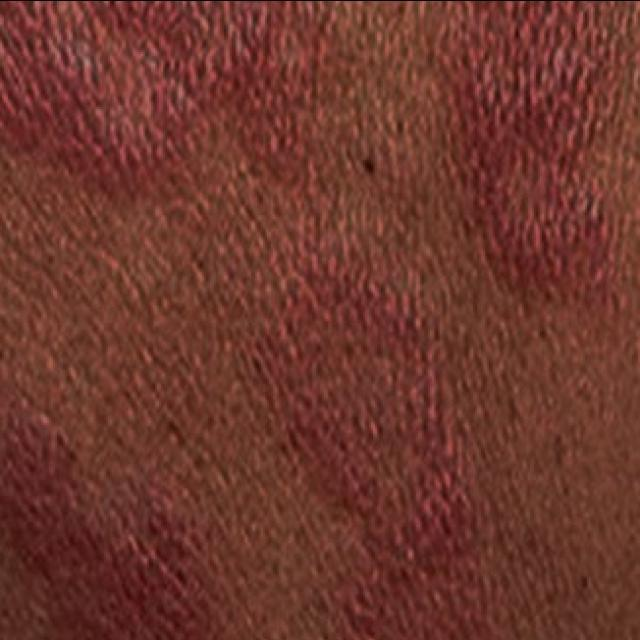Leprosy: (230, 237, 485, 640), (418, 0, 640, 308), (0, 335, 222, 640), (0, 0, 314, 210)
